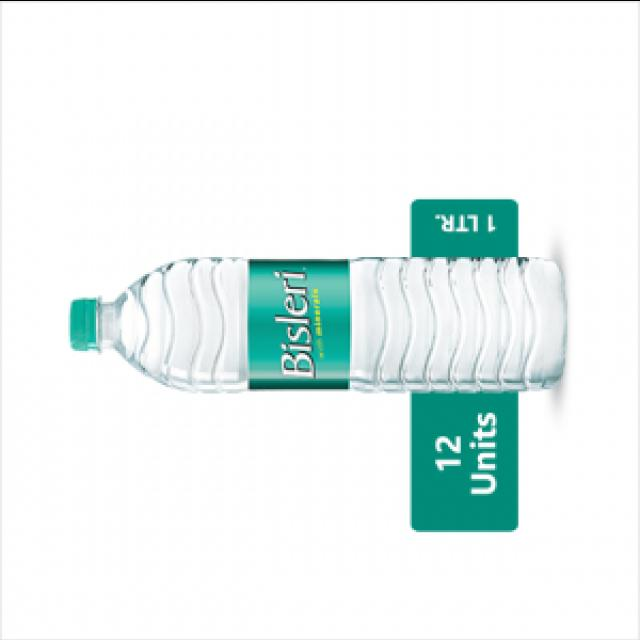bottle: (18, 200, 580, 390)
